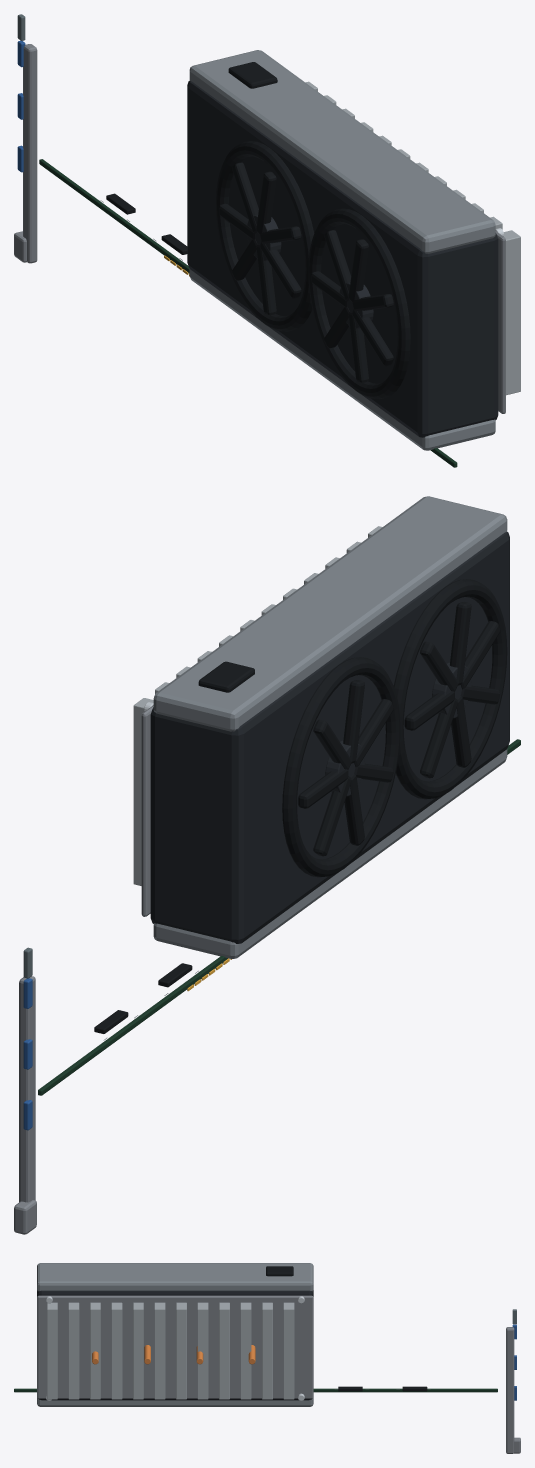
File: gpu.glb
The picture shows the model from 3 angles, top to bottom: view 1: azimuth 30°, elevation 25°; view 2: azimuth 150°, elevation 25°; view 3: azimuth 270°, elevation 25°; orthographic projection. The views are drawn at different scales.
Visible parts, largest first — view 1: GPU_Shroud_Main, GPU_Shroud_Upper, GPU_Fan_1_Frame, GPU_Fan_2_Frame, GPU_Shroud_Lower, GPU_IOBracket, GPU_Heatsink_Fin_01, GPU_Backplate, GPU_PCB, GPU_PowerConnector, GPU_Fan_1_Blade_02, GPU_Fan_2_Blade_06 (+12 smaller); view 2: GPU_Shroud_Main, GPU_Shroud_Upper, GPU_Fan_2_Frame, GPU_Fan_1_Frame, GPU_Shroud_Lower, GPU_IOBracket, GPU_Backplate, GPU_PCB, GPU_Heatsink_Fin_12, GPU_Fan_2_Blade_03, GPU_Fan_1_Blade_03, GPU_Fan_2_Blade_07 (+10 smaller); view 3: GPU_Backplate, GPU_Shroud_Upper, GPU_Shroud_Main, GPU_Shroud_Lower, GPU_Heatsink_Fin_02, GPU_Heatsink_Fin_04, GPU_Heatsink_Fin_06, GPU_Heatsink_Fin_12, GPU_Heatsink_Fin_10, GPU_IOBracket, GPU_Heatsink_Fin_08, GPU_Heatsink_Fin_05 (+7 smaller).
Boxes of the visible parts, bbox=[...] form: GPU_Shroud_Main: bbox=[187, 80, 498, 437]; GPU_Shroud_Upper: bbox=[189, 50, 495, 253]; GPU_Fan_1_Frame: bbox=[308, 208, 410, 399]; GPU_Fan_2_Frame: bbox=[216, 141, 314, 331]; GPU_Shroud_Lower: bbox=[189, 269, 495, 450]; GPU_IOBracket: bbox=[23, 44, 37, 263]; GPU_Heatsink_Fin_01: bbox=[503, 230, 520, 395]; GPU_Backplate: bbox=[495, 231, 505, 413]; GPU_PCB: bbox=[39, 159, 457, 467]; GPU_PowerConnector: bbox=[228, 62, 277, 88]; GPU_Fan_1_Blade_02: bbox=[324, 230, 351, 301]; GPU_Fan_2_Blade_06: bbox=[256, 244, 276, 315]; GPU_Shroud_Main: bbox=[150, 531, 509, 943]; GPU_Shroud_Upper: bbox=[153, 496, 507, 731]; GPU_Fan_2_Frame: bbox=[282, 657, 400, 877]; GPU_Fan_1_Frame: bbox=[393, 579, 507, 799]; GPU_Shroud_Lower: bbox=[153, 749, 507, 958]; GPU_IOBracket: bbox=[19, 976, 35, 1202]; GPU_Backplate: bbox=[141, 705, 153, 916]; GPU_PCB: bbox=[38, 739, 520, 1095]; GPU_Heatsink_Fin_12: bbox=[133, 698, 153, 885]; GPU_Fan_2_Blade_03: bbox=[343, 680, 364, 763]; GPU_Fan_1_Blade_03: bbox=[450, 601, 471, 685]; GPU_Fan_2_Blade_07: bbox=[313, 776, 351, 856]; GPU_Backplate: bbox=[37, 1295, 313, 1398]; GPU_Shroud_Upper: bbox=[37, 1263, 313, 1291]; GPU_Shroud_Main: bbox=[37, 1290, 313, 1400]; GPU_Shroud_Lower: bbox=[37, 1398, 313, 1406]; GPU_Heatsink_Fin_02: bbox=[68, 1302, 79, 1399]; GPU_Heatsink_Fin_04: bbox=[111, 1302, 122, 1399]; GPU_Heatsink_Fin_06: bbox=[154, 1302, 165, 1399]; GPU_Heatsink_Fin_12: bbox=[283, 1302, 294, 1399]; GPU_Heatsink_Fin_10: bbox=[240, 1302, 251, 1399]; GPU_IOBracket: bbox=[506, 1327, 514, 1453]; GPU_Heatsink_Fin_08: bbox=[197, 1302, 208, 1399]; GPU_Heatsink_Fin_05: bbox=[133, 1302, 143, 1399].
Size of the model in its own units: 0.064 by 0.137 by 0.33.
